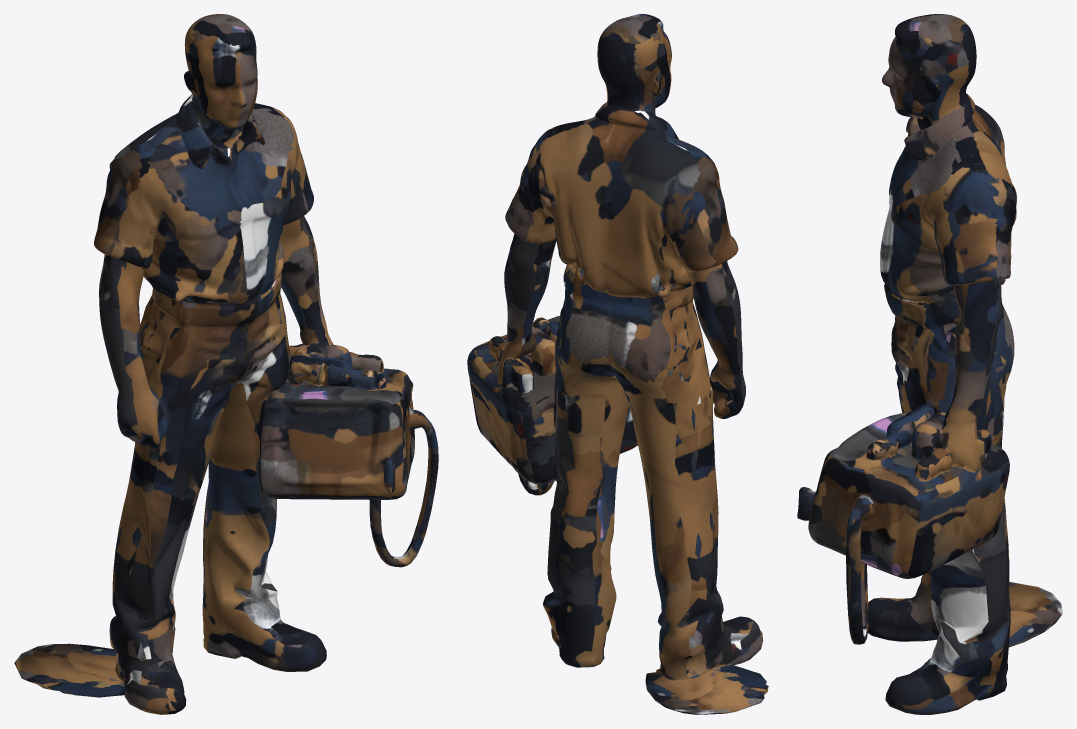
3 renders of one model, left to right at view 1: azimuth 30°, elevation 25°; view 2: azimuth 150°, elevation 25°; view 3: azimuth 270°, elevation 25°, orthographic. The views are drawn at different scales.
Parts seen in each view (by area): view 1: Paramedic; view 2: Paramedic; view 3: Paramedic.
Boxes of the visible parts, x1=… form: Paramedic: x1=14, y1=14, x2=438, y2=714; Paramedic: x1=467, y1=14, x2=768, y2=714; Paramedic: x1=797, y1=14, x2=1062, y2=714.
Bounding box in the file's own units: 0.9924 × 1.8 × 0.6578.
